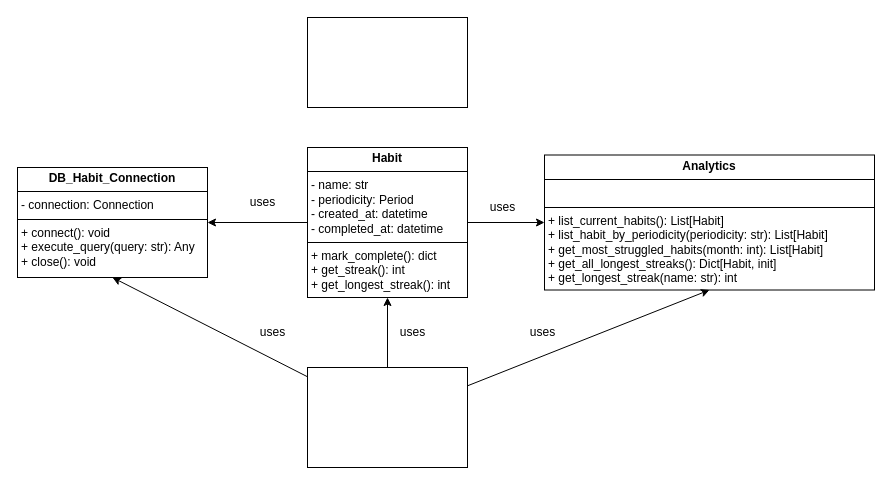
The diagram is 892 pixels wide and 485 high, and some of its shapes have lost their labels. The shapes that lost their labels are listed below. From the top down, each one's box as (x1, y1, x2, y2) in pixels, then its label:
(306, 16, 468, 108): Period DAILY WEEKLY MONTHLY
(306, 366, 468, 468): CLI + run(): void + display_menu(): void
